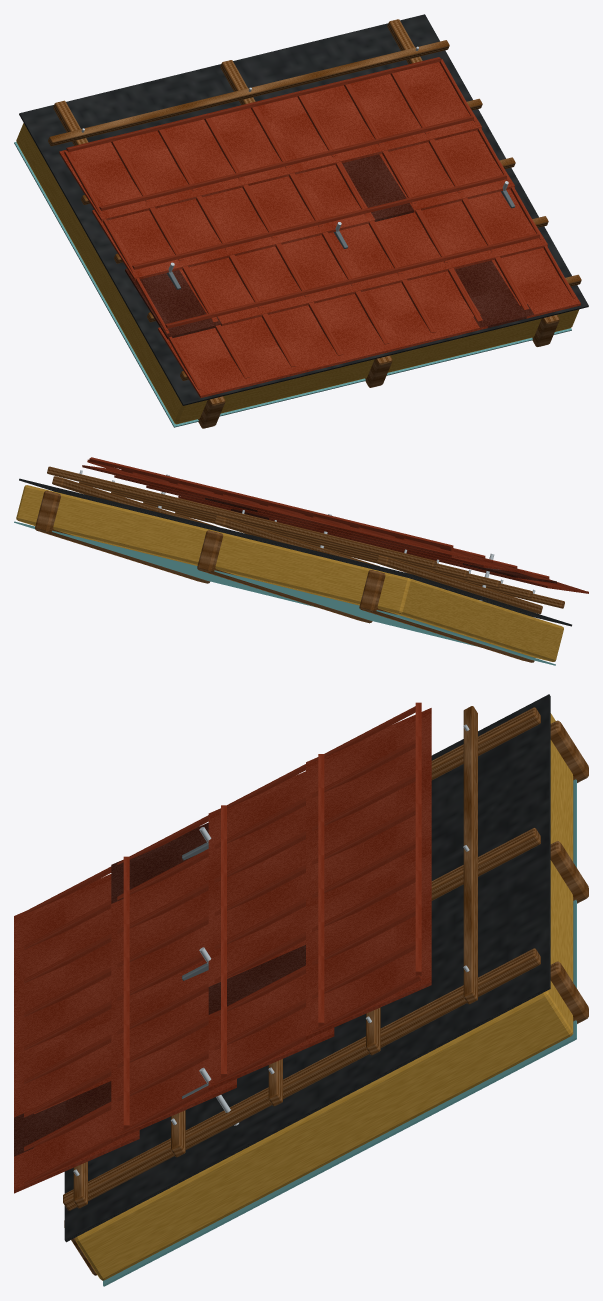
Rendered from modell.glb.
3 renders of one model, top to bottom at view 1: azimuth 30°, elevation 25°; view 2: azimuth 150°, elevation 25°; view 3: azimuth 270°, elevation 25°, orthographic. The views are drawn at different scales.
Visible parts, largest first — view 1: g05-deckziegel_deckung, g05-zusatzebene_zusatzebene, g05-daemmung_daemmung, g05-deckziegel_deckung.001, g05-lattung_lattung, g05-luftdichtheit_luftdichtheit, g05-sparren_tragwerk; view 2: g05-daemmung_daemmung, g05-lattung_lattung, g05-deckziegel_deckung, g05-sparren_tragwerk, g05-luftdichtheit_luftdichtheit, g05-zusatzebene_zusatzebene, g05-deckziegel_deckung.001; view 3: g05-deckziegel_deckung, g05-zusatzebene_zusatzebene, g05-daemmung_daemmung, g05-lattung_lattung, g05-deckziegel_deckung.001, g05-luftdichtheit_luftdichtheit, g05-sparren_tragwerk.
Boxes of the visible parts, bbox=[...] form: g05-deckziegel_deckung: bbox=[59, 57, 580, 397]; g05-zusatzebene_zusatzebene: bbox=[19, 14, 588, 405]; g05-daemmung_daemmung: bbox=[16, 123, 579, 424]; g05-deckziegel_deckung.001: bbox=[125, 154, 533, 339]; g05-lattung_lattung: bbox=[48, 19, 581, 380]; g05-luftdichtheit_luftdichtheit: bbox=[14, 141, 571, 427]; g05-sparren_tragwerk: bbox=[198, 315, 559, 428]; g05-daemmung_daemmung: bbox=[16, 485, 563, 661]; g05-lattung_lattung: bbox=[47, 466, 564, 613]; g05-deckziegel_deckung: bbox=[82, 457, 588, 593]; g05-sparren_tragwerk: bbox=[35, 490, 534, 662]; g05-luftdichtheit_luftdichtheit: bbox=[14, 521, 555, 665]; g05-zusatzebene_zusatzebene: bbox=[19, 478, 571, 626]; g05-deckziegel_deckung.001: bbox=[205, 497, 556, 583]; g05-deckziegel_deckung: bbox=[14, 702, 431, 1193]; g05-zusatzebene_zusatzebene: bbox=[64, 694, 550, 1242]; g05-daemmung_daemmung: bbox=[75, 713, 573, 1280]; g05-lattung_lattung: bbox=[63, 706, 540, 1210]; g05-deckziegel_deckung.001: bbox=[14, 822, 305, 1156]; g05-luftdichtheit_luftdichtheit: bbox=[103, 779, 576, 1286]; g05-sparren_tragwerk: bbox=[64, 720, 588, 1275].
Size of the model in its own units: 2.09 by 1.07 by 1.74.
8 materials, 5 textured.
